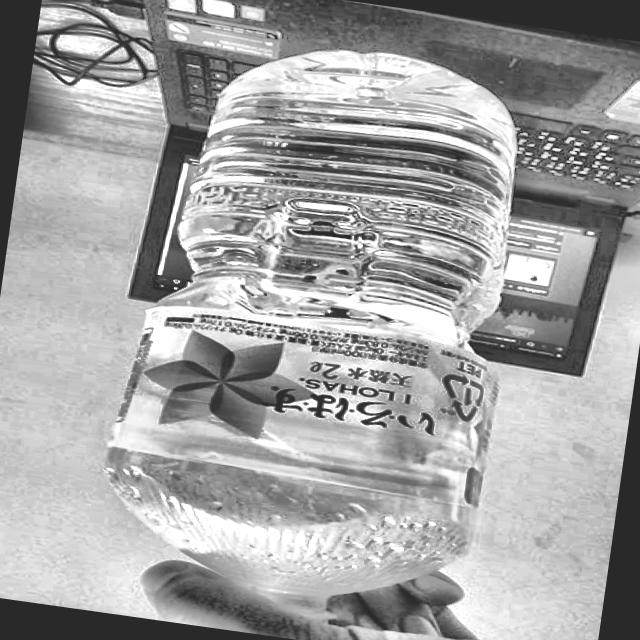waterbottle: (70, 11, 557, 640)
